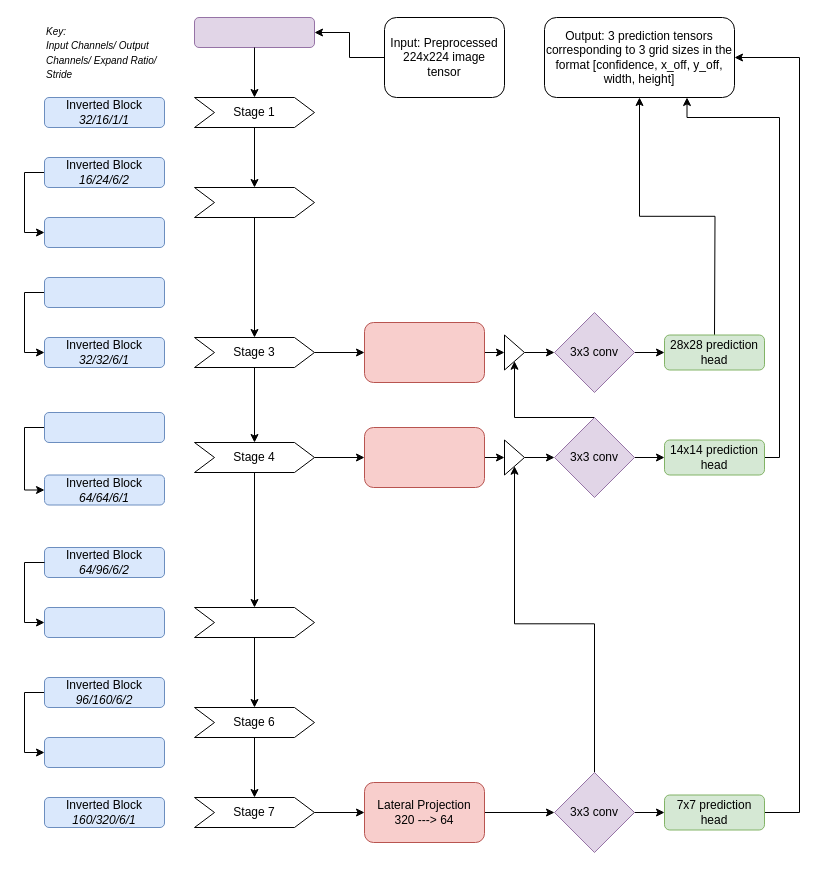
This 825x870 diagram has some shape labels left out. Here are the shapes that lost their labels. From the top down, the centre of each, then its label:
At [254,32]: "Stem 3x3 conv".
At [254,202]: "Stage 2".
At [104,232]: "Inverted Block 24/24/6/1".
At [104,292]: "Inverted Block 24/32/6/2".
At [424,352]: "Lateral Projection 32 ---> 64".
At [104,427]: "Inverted Block 32/64/6/2".
At [424,457]: "Lateral Projection 64 ---> 64".
At [104,622]: "Inverted Block 96/96/6/1".
At [254,622]: "Stage 5".
At [104,752]: "Inverted Block 160/160/6/1".
